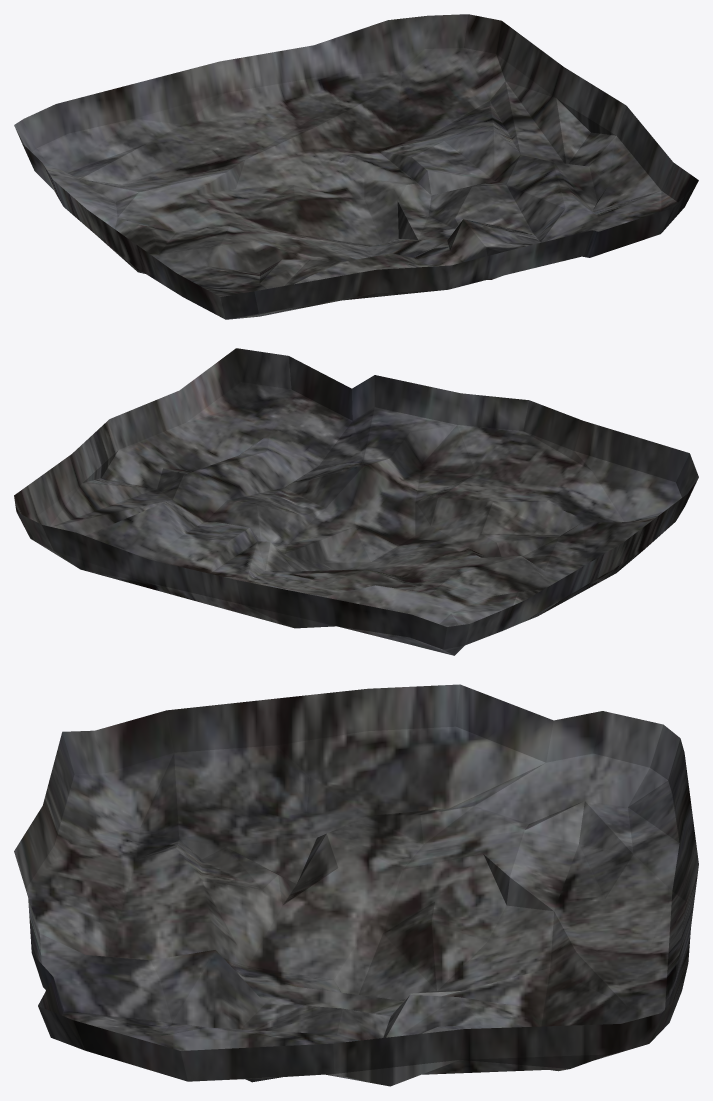
Rendered from Ceiling 1.fbx.
3 views of the same model, one above another, from view 1: azimuth 30°, elevation 25°; view 2: azimuth 150°, elevation 25°; view 3: azimuth 270°, elevation 25° (orthographic). The views are drawn at different scales.
Parts seen in each view (by area): view 1: Ceiling 1; view 2: Ceiling 1; view 3: Ceiling 1.
Part boxes in pixels (box(x1,y1,x2,y2)): Ceiling 1: box(14, 14, 698, 319); Ceiling 1: box(14, 348, 698, 655); Ceiling 1: box(14, 684, 698, 1086).
Size of the model in its own units: 4214 by 831 by 3634.
